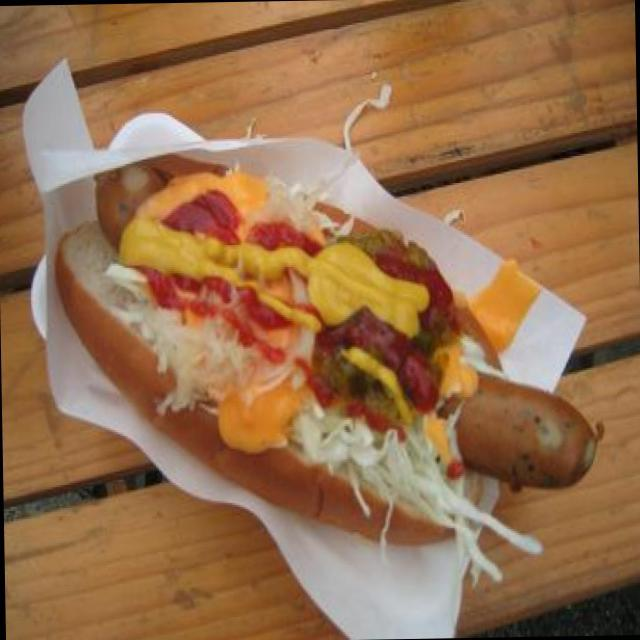Hot Dog: (42, 161, 588, 534)
